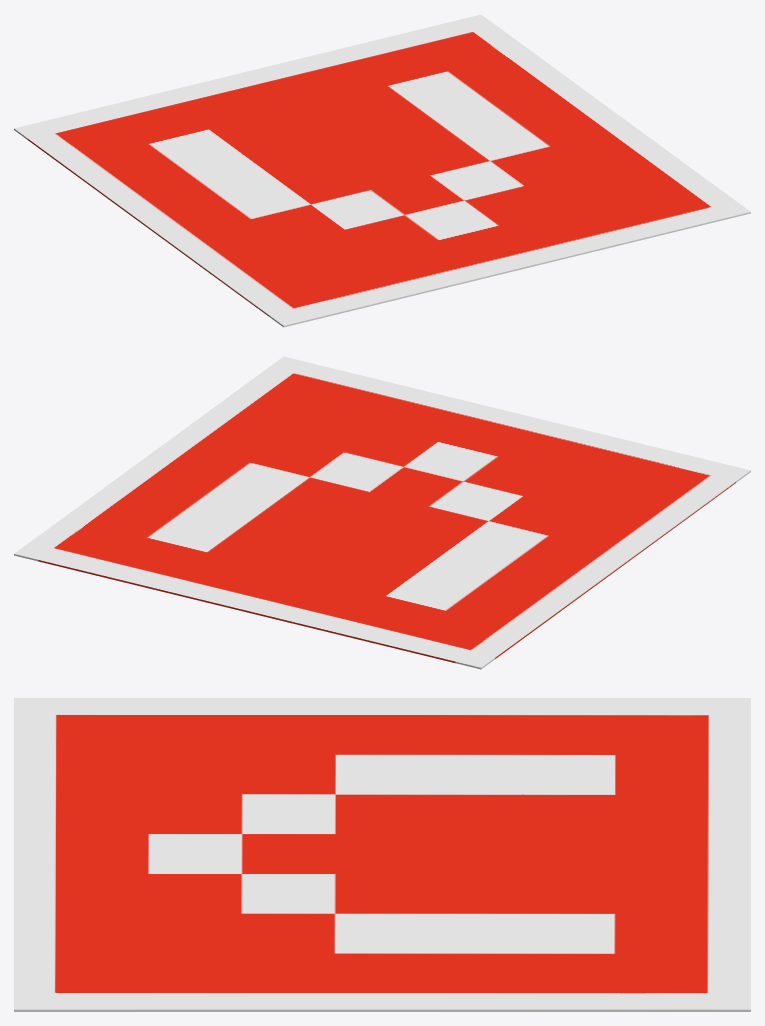
The model's file is tagV.dae.
3 renders of one model, top to bottom at view 1: azimuth 30°, elevation 25°; view 2: azimuth 150°, elevation 25°; view 3: azimuth 270°, elevation 25°, orthographic. The views are drawn at different scales.
Parts seen in each view (by area): view 1: 立方体; view 2: 立方体; view 3: 立方体.
Part boxes in pixels (<box>): 立方体: <box>14,14,750,327</box>; 立方体: <box>14,356,750,669</box>; 立方体: <box>14,698,750,1011</box>.
Size of the model in its own units: 0.15 by 0.15 by 0.0005.
Materials: 1 (1 with a texture image).
